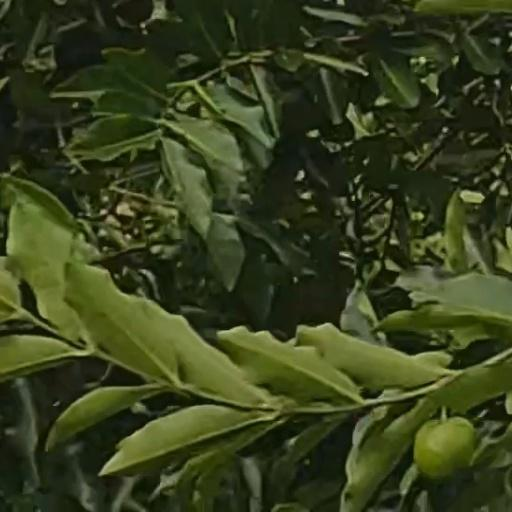acerola_verde: (415, 418, 472, 475)
